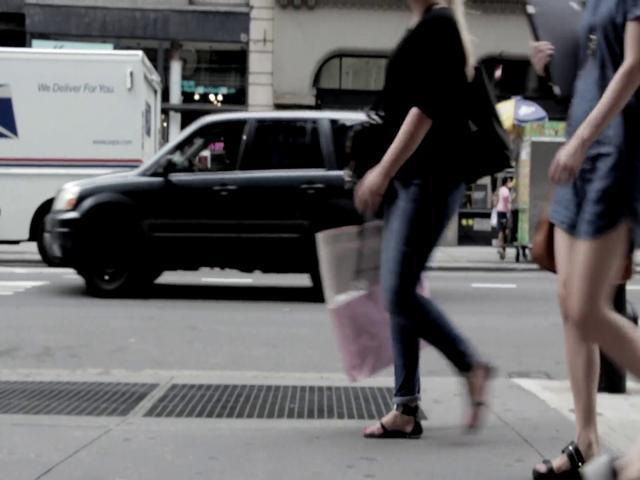shoe: (533, 441, 603, 479), (364, 404, 423, 438)
